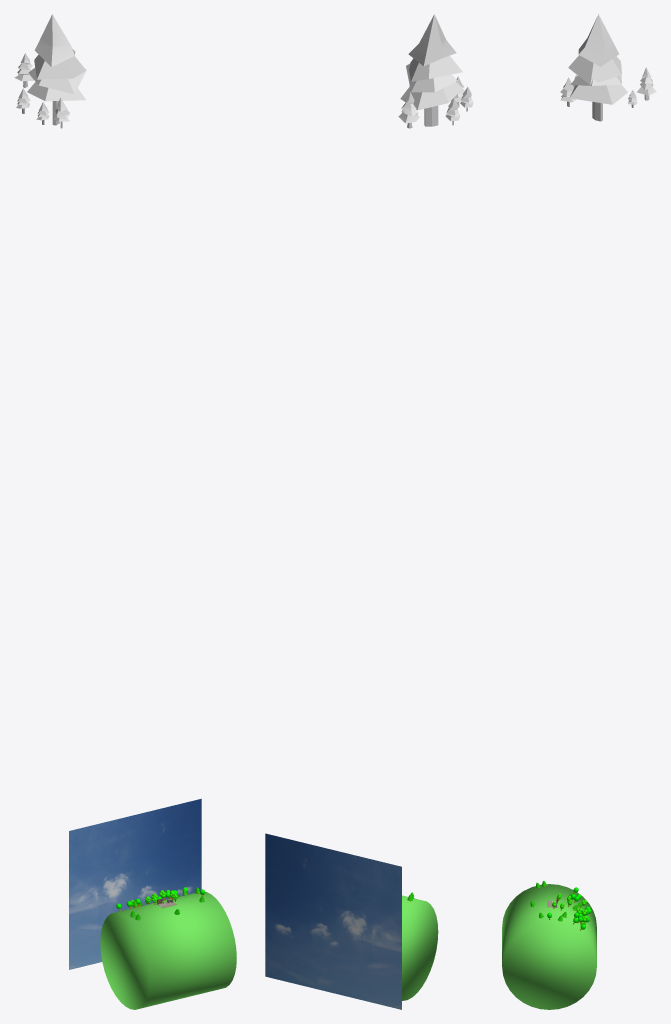
Rendered from game_environment.fbx.
The picture shows the model from 3 angles, left to right: view 1: azimuth 30°, elevation 25°; view 2: azimuth 150°, elevation 25°; view 3: azimuth 270°, elevation 25°; orthographic projection. The views are drawn at different scales.
Parts seen in each view (by area): view 1: Plane, Cylinder, trees; view 2: Plane, trees, Cylinder; view 3: Cylinder, trees.
Part boxes in pixels (x1,y1,x2,y2): Plane: (69, 798, 201, 969); Cylinder: (100, 892, 236, 1009); trees: (14, 14, 86, 128); Plane: (265, 833, 401, 1009); trees: (398, 14, 473, 128); Cylinder: (402, 895, 438, 1000); Cylinder: (502, 884, 596, 1009); trees: (560, 14, 656, 121).
Size of the model in its own units: 8804 by 44377 by 6661.
24 materials, 10 textured.
